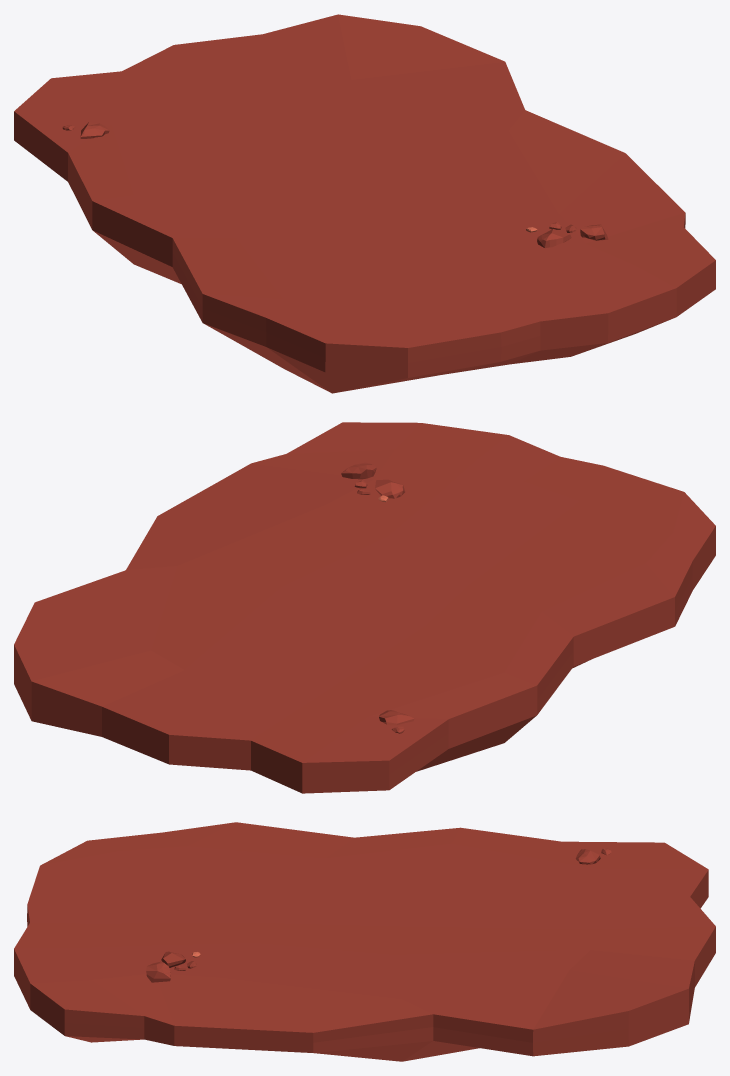
The model's file is D Plataforma_1.fbx.
3 views of the same model, one above another, from view 1: azimuth 30°, elevation 25°; view 2: azimuth 150°, elevation 25°; view 3: azimuth 270°, elevation 25° (orthographic). The views are drawn at different scales.
Parts seen in each view (by area): view 1: plataforma 2; view 2: plataforma 2; view 3: plataforma 2, rocas pequeñas.038.
Boxes of the visible parts, x1,y1,x2,y2 form: plataforma 2: [14, 14, 715, 393]; plataforma 2: [14, 422, 715, 793]; plataforma 2: [14, 822, 715, 1061]; rocas pequeñas.038: [146, 961, 170, 982].
Bounding box in the file's own units: 2723 × 699 × 3893.
